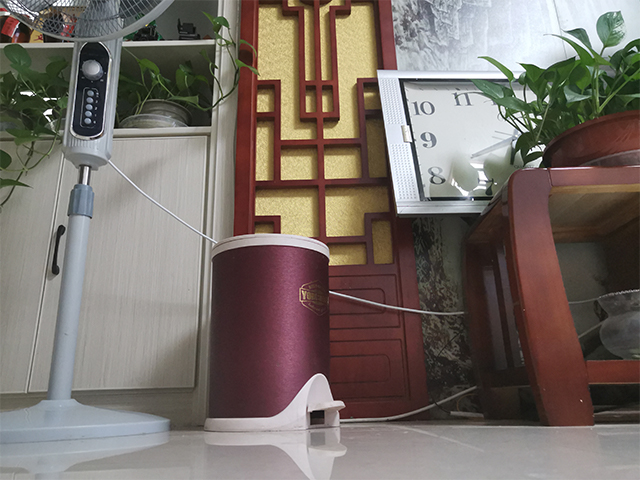cabinet: (2, 1, 237, 429)
table: (459, 164, 640, 428)
trashcan: (205, 233, 346, 432)
wire: (341, 385, 478, 425)
